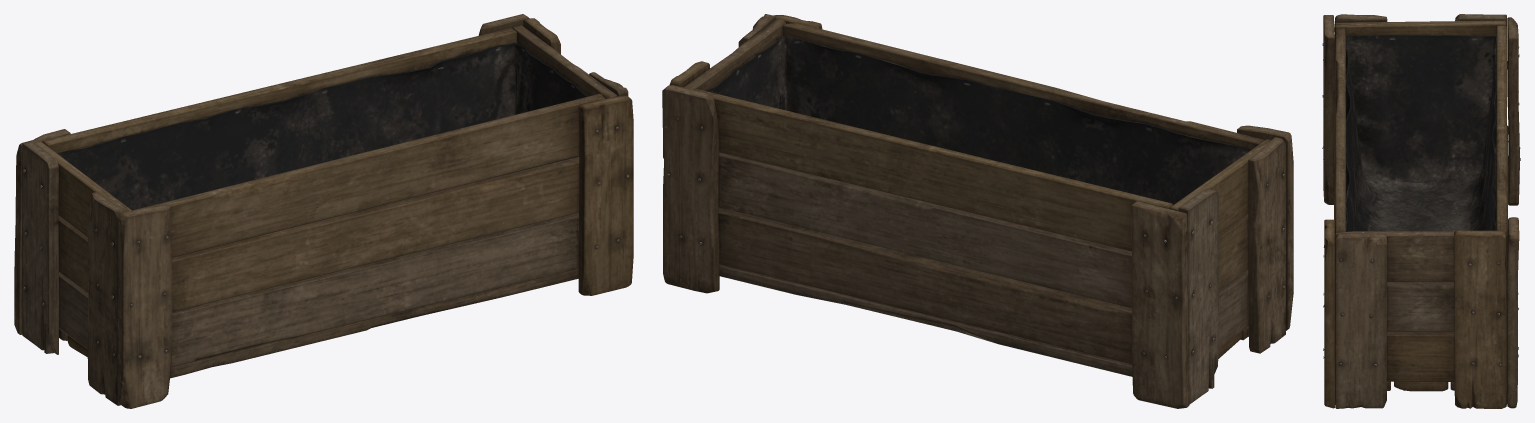
The model's file is planter_box_02.glb.
3 renders of one model, left to right at view 1: azimuth 30°, elevation 25°; view 2: azimuth 150°, elevation 25°; view 3: azimuth 270°, elevation 25°, orthographic. The views are drawn at different scales.
Parts seen in each view (by area): view 1: planter_box_02; view 2: planter_box_02; view 3: planter_box_02.
Boxes of the visible parts, x1,y1,x2,y2 form: planter_box_02: (14,14,633,408); planter_box_02: (662,14,1293,408); planter_box_02: (1322,14,1520,408).
Size of the model in its own units: 1.25 by 0.4534 by 0.4672.
1 material, 1 textured.
